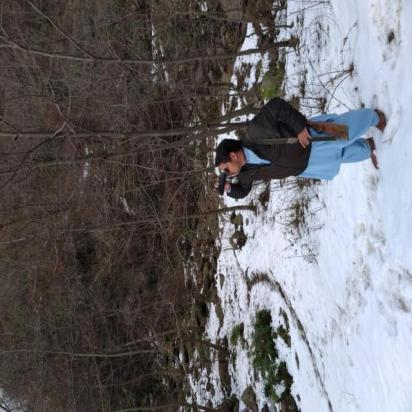Gun: (205, 116, 350, 142)
